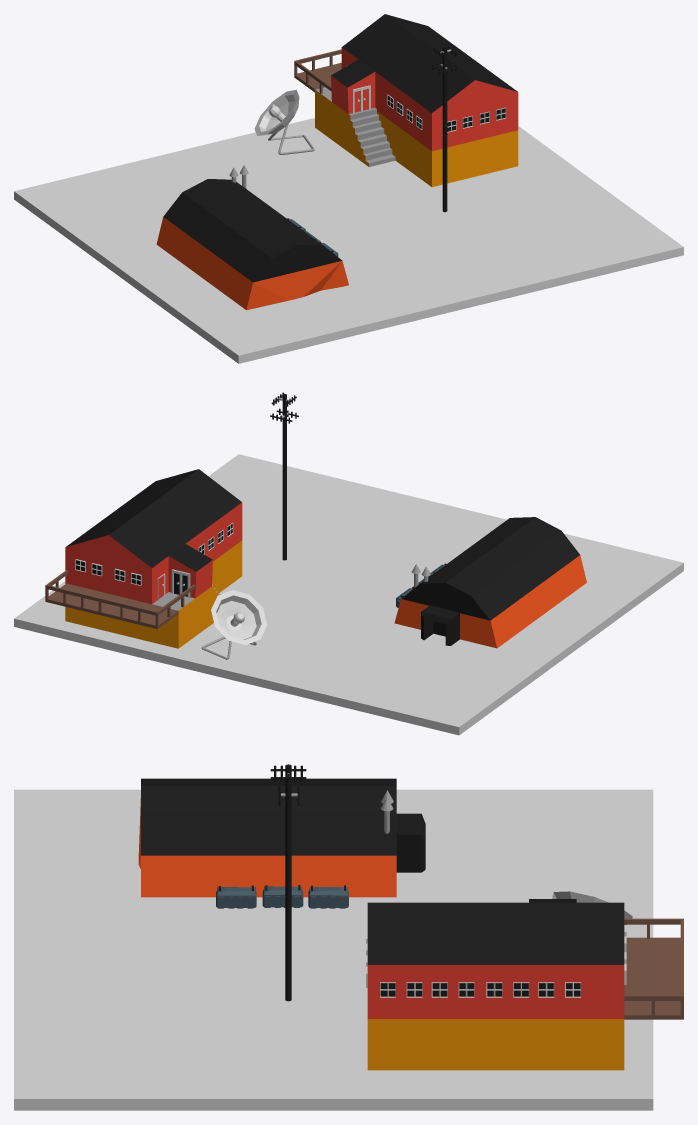
The model's file is south pole base.glb.
3 renders of one model, top to bottom at view 1: azimuth 30°, elevation 25°; view 2: azimuth 150°, elevation 25°; view 3: azimuth 270°, elevation 25°, orthographic. The views are drawn at different scales.
Visible parts, largest first — view 1: group353920222; view 2: group353920222; view 3: group353920222, group1656059023.
Part boxes in pixels (box(x1,y1,x2,y2)): group353920222: box(14, 14, 683, 363); group353920222: box(14, 392, 683, 735); group353920222: box(14, 764, 683, 1110); group1656059023: box(216, 885, 348, 908).
Size of the model in its own units: 8.24 by 3.14 by 7.55.
